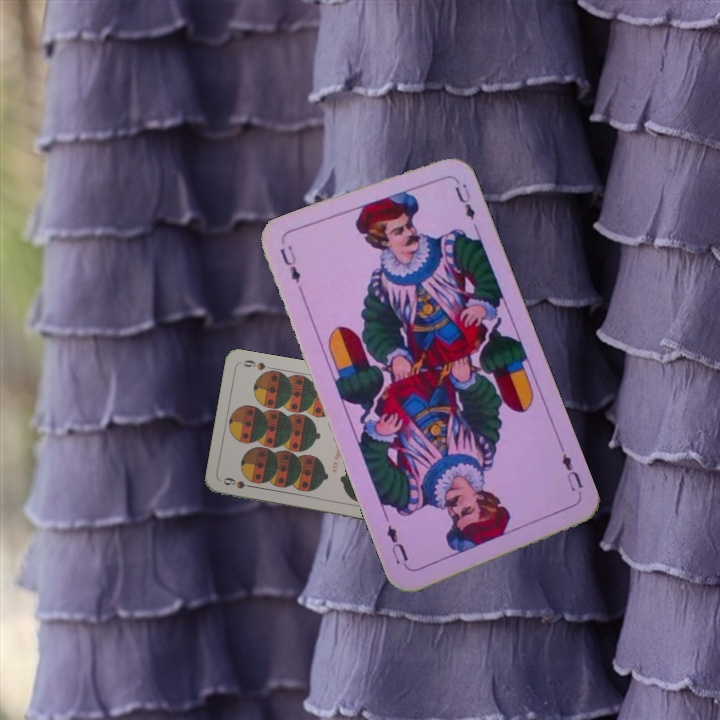EU: (557, 444, 586, 502), (276, 241, 304, 285)
S9: (219, 473, 259, 491)
